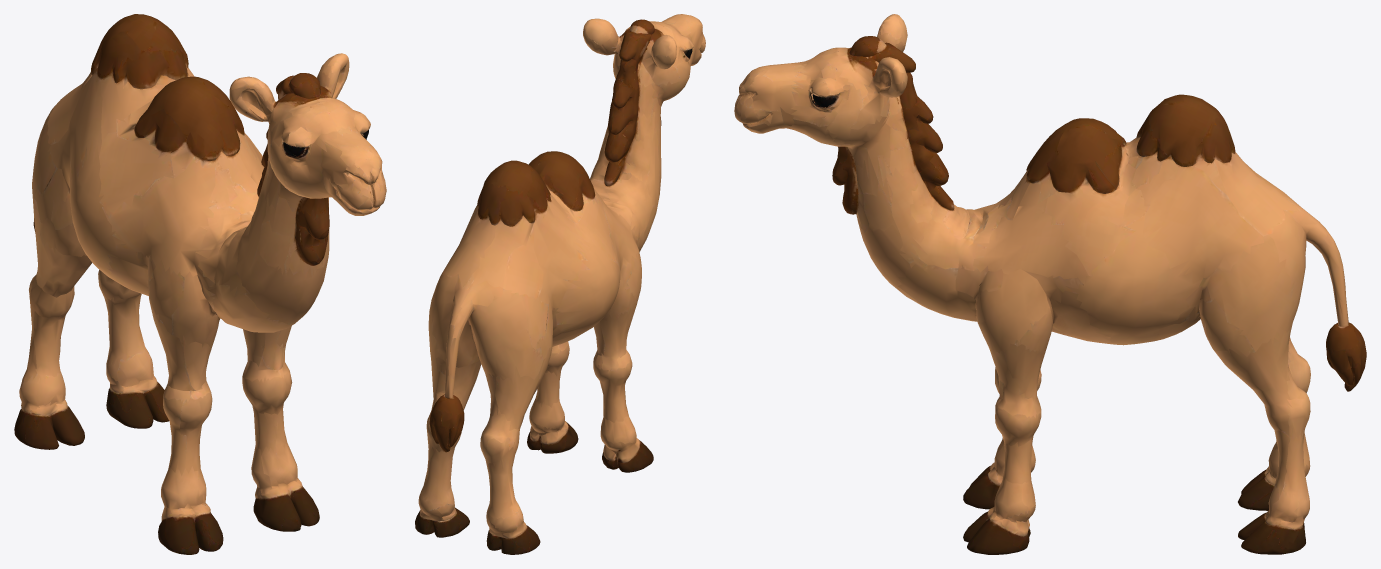
Rendered from upm_muprjmya4yc.glb.
The picture shows the model from 3 angles, left to right: view 1: azimuth 30°, elevation 25°; view 2: azimuth 150°, elevation 25°; view 3: azimuth 270°, elevation 25°; orthographic projection. The views are drawn at different scales.
Size of the model in its own units: 0.6057 by 1.6 by 1.9.
1 material, 1 textured.
